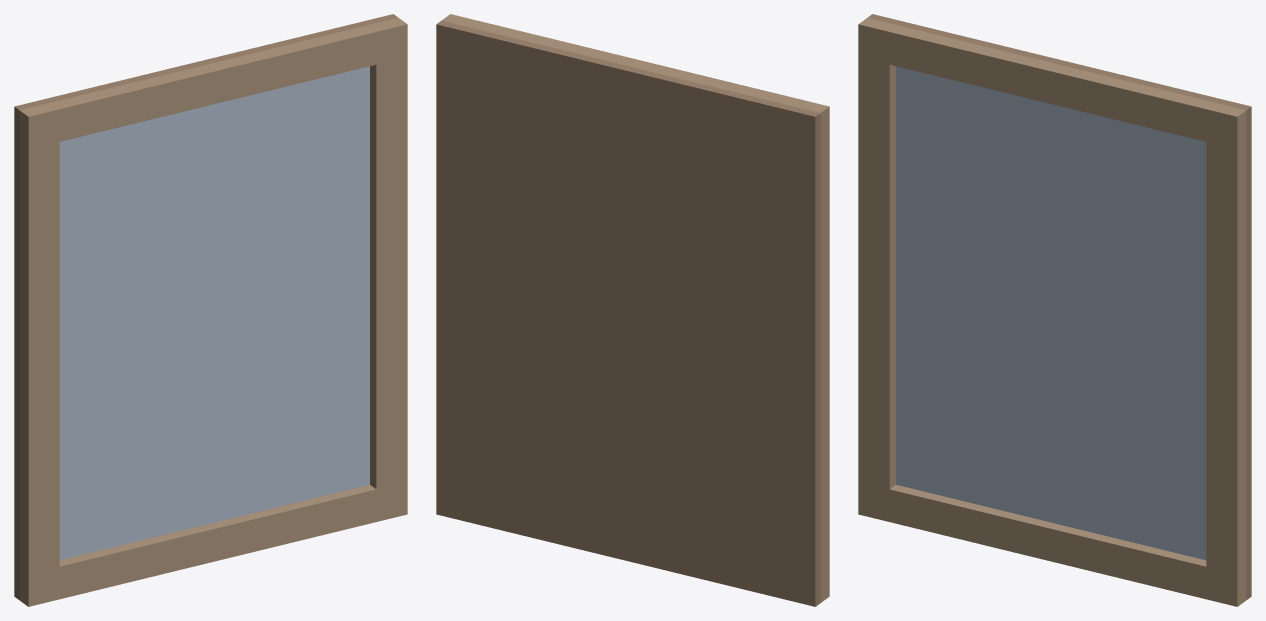
The model's file is picture-frame-1.gltf.
3 renders of one model, left to right at view 1: azimuth 30°, elevation 25°; view 2: azimuth 150°, elevation 25°; view 3: azimuth 330°, elevation 25°, orthographic.
Visible parts, largest first — view 1: photo, rail_l, rail_t, rail_r, rail_b, back; view 2: back, rail_l, rail_t; view 3: photo, rail_r, rail_t, rail_l, rail_b, back.
Boxes of the visible parts, left/top/right/bottom form: photo: left=59, top=66, right=369, bottom=560; rail_l: left=19, top=142, right=59, bottom=574; rail_t: left=19, top=18, right=407, bottom=149; rail_r: left=370, top=57, right=407, bottom=489; rail_b: left=19, top=482, right=407, bottom=606; back: left=14, top=14, right=398, bottom=599; back: left=436, top=20, right=820, bottom=606; rail_l: left=820, top=139, right=829, bottom=569; rail_t: left=442, top=14, right=829, bottom=145; photo: left=896, top=66, right=1206, bottom=560; rail_r: left=1206, top=142, right=1246, bottom=574; rail_t: left=858, top=18, right=1246, bottom=149; rail_l: left=858, top=57, right=895, bottom=489; rail_b: left=858, top=482, right=1246, bottom=606; back: left=867, top=14, right=1251, bottom=599.
Size of the model in its own units: 0.0213 by 0.0262 by 0.00137.
